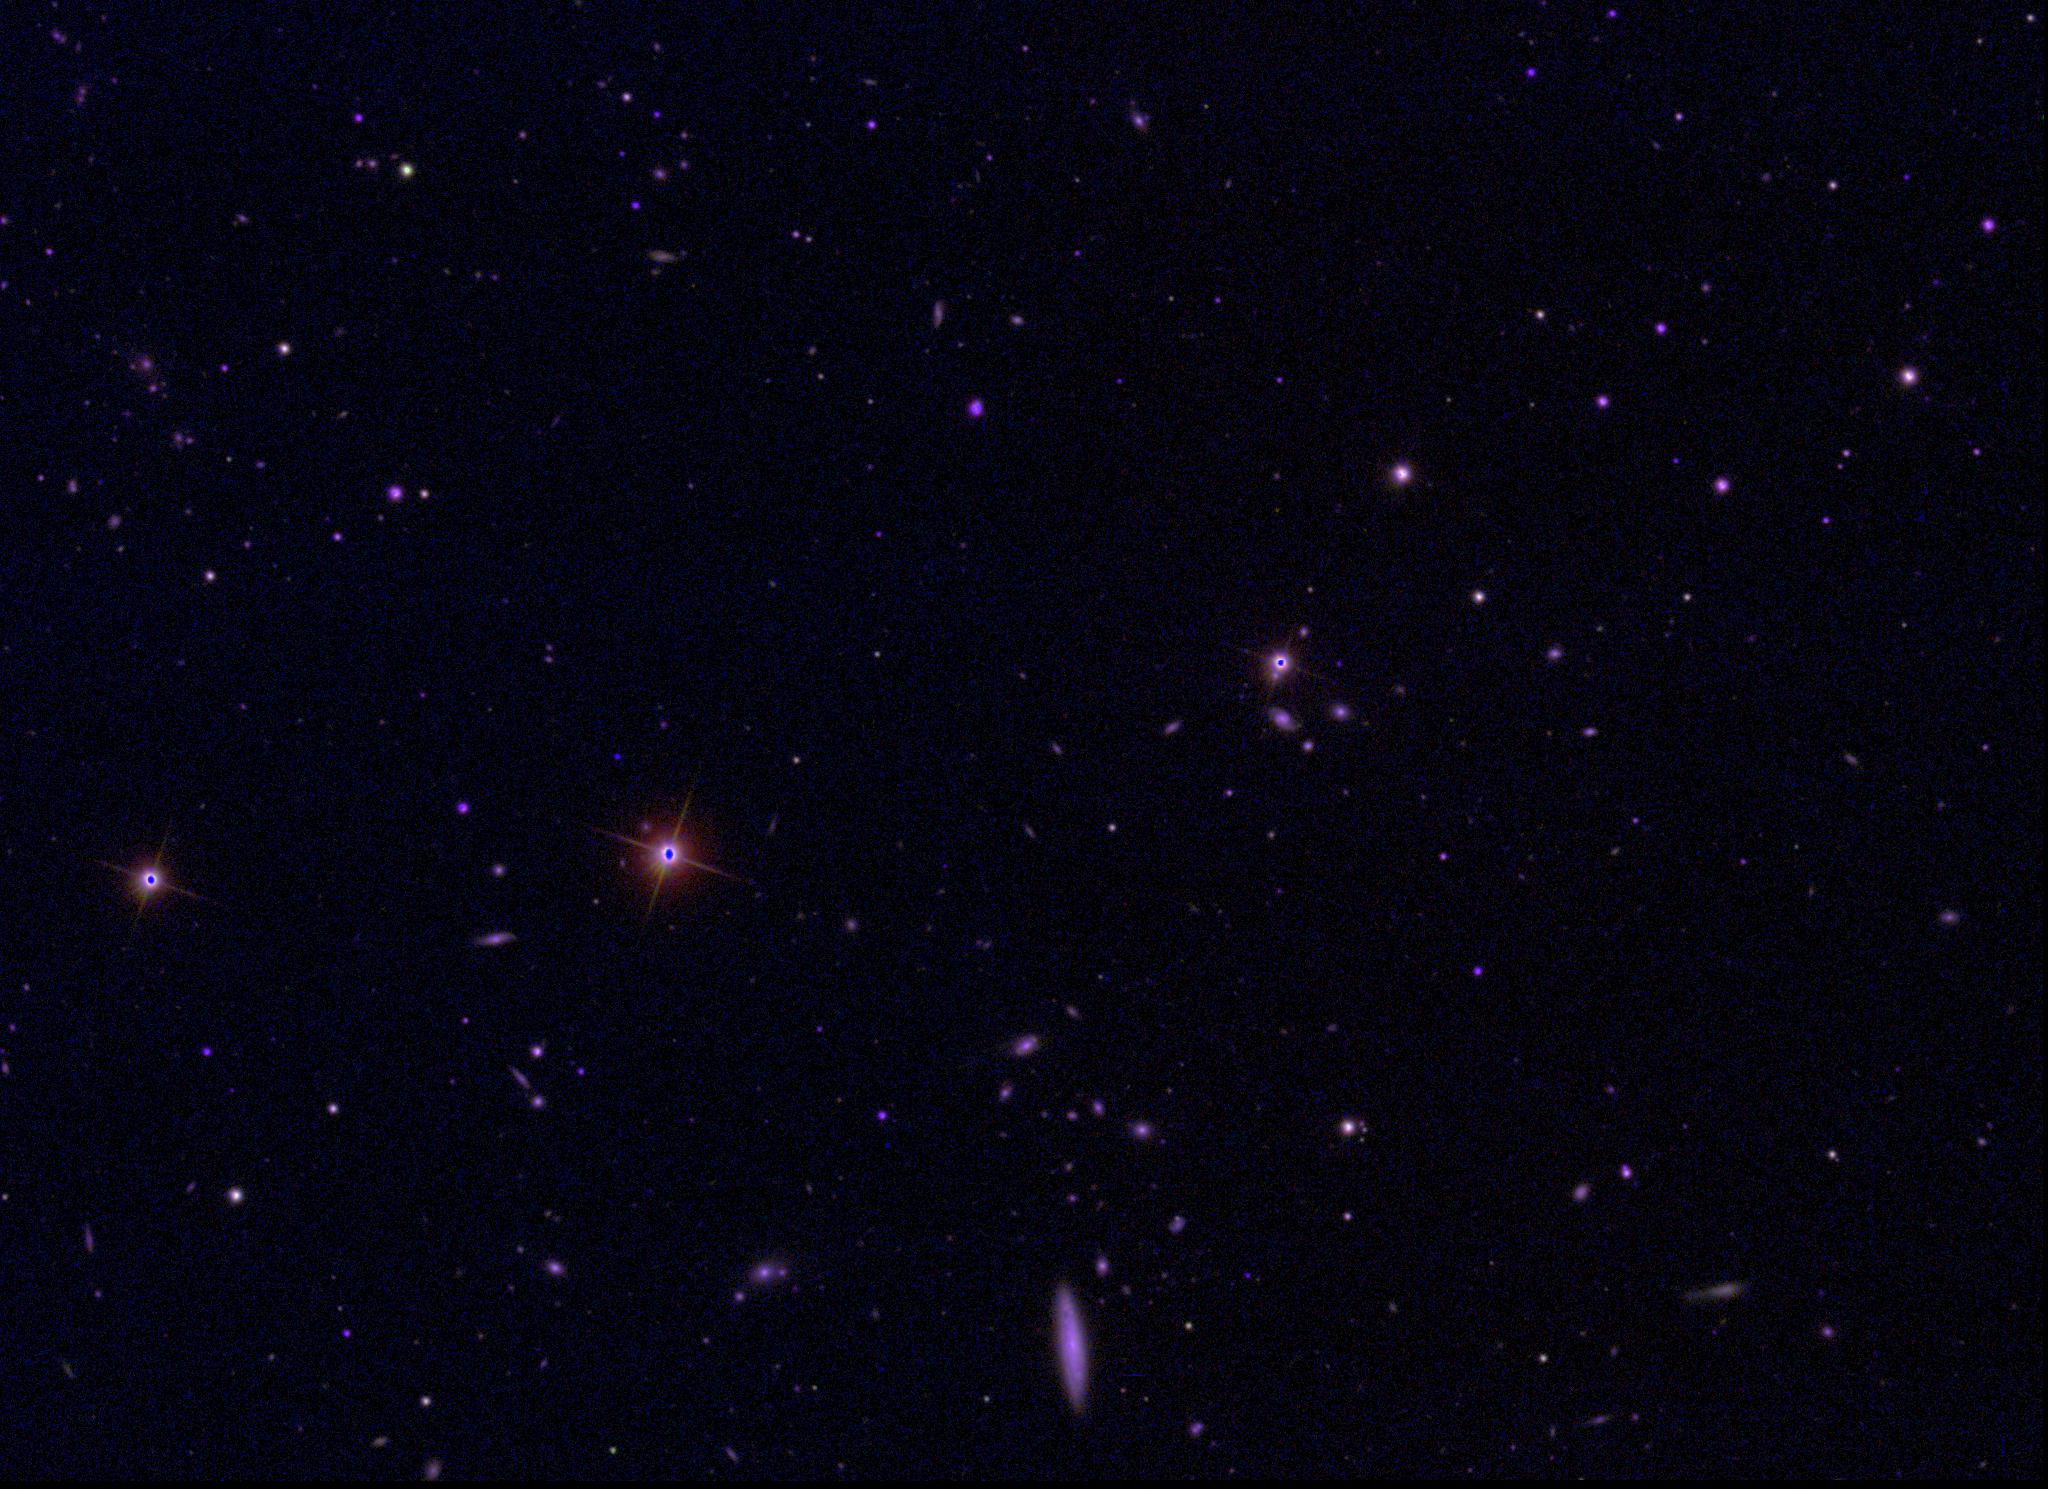L: (611, 749, 623, 764)
